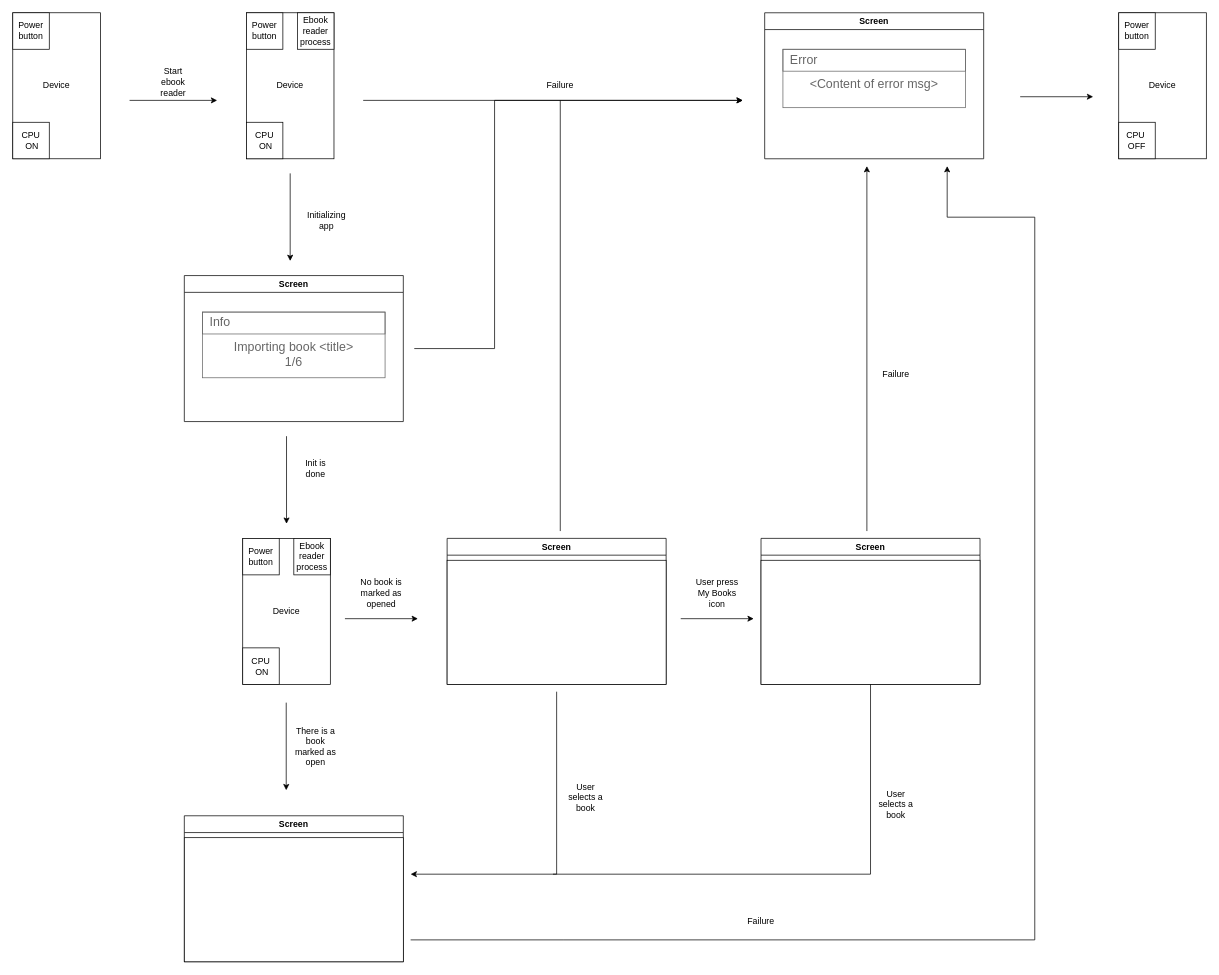
The diagram is 1219 pixels wide and 975 high, and some of its shapes have lost their labels. The shapes that lost their labels are listed below. From the top down, each one's box as (x1, y1, x2, y2) in pixels, then its label:
(446, 560, 666, 684): Menu screen
(760, 560, 980, 684): My books screen
(184, 837, 403, 962): Reader screen
